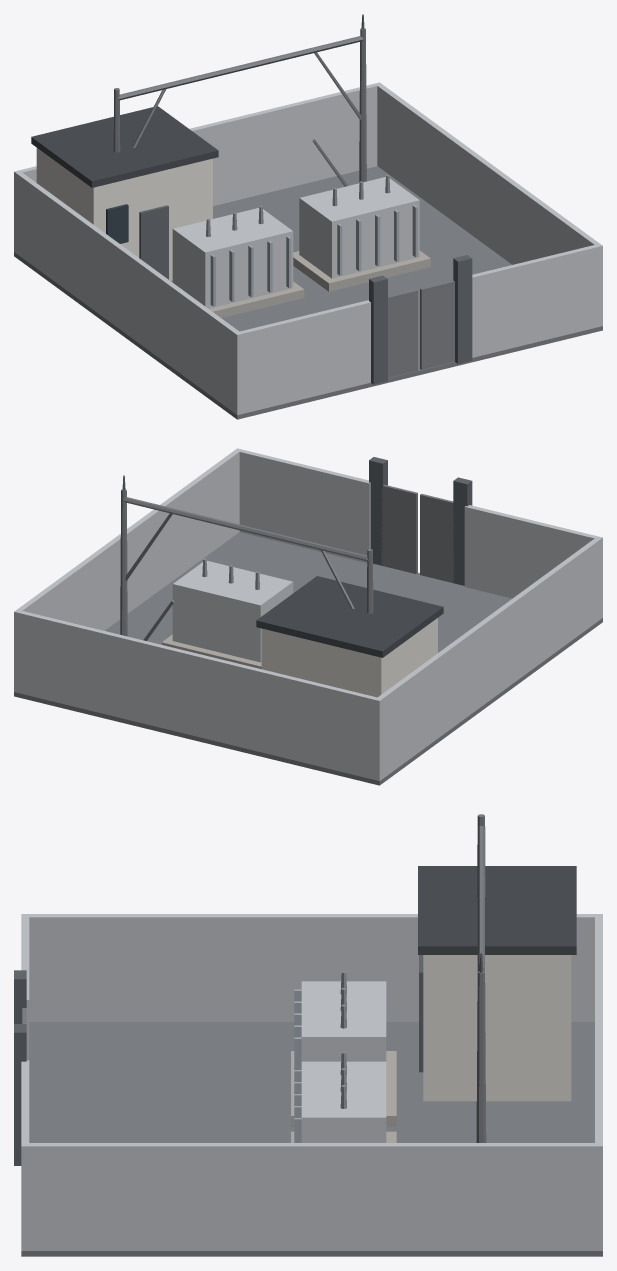
Rendered from service_substation.glb.
3 views of the same model, one above another, from view 1: azimuth 30°, elevation 25°; view 2: azimuth 150°, elevation 25°; view 3: azimuth 270°, elevation 25° (orthographic). The views are drawn at different scales.
Visible parts, largest first — view 1: substation; view 2: substation; view 3: substation.
Part boxes in pixels (box(x1,y1,x2,y2)): substation: box(14, 14, 602, 419); substation: box(14, 448, 602, 785); substation: box(14, 814, 602, 1256).
Size of the model in its own units: 10.4 by 5.49 by 11.14.
2 materials, 1 textured.
